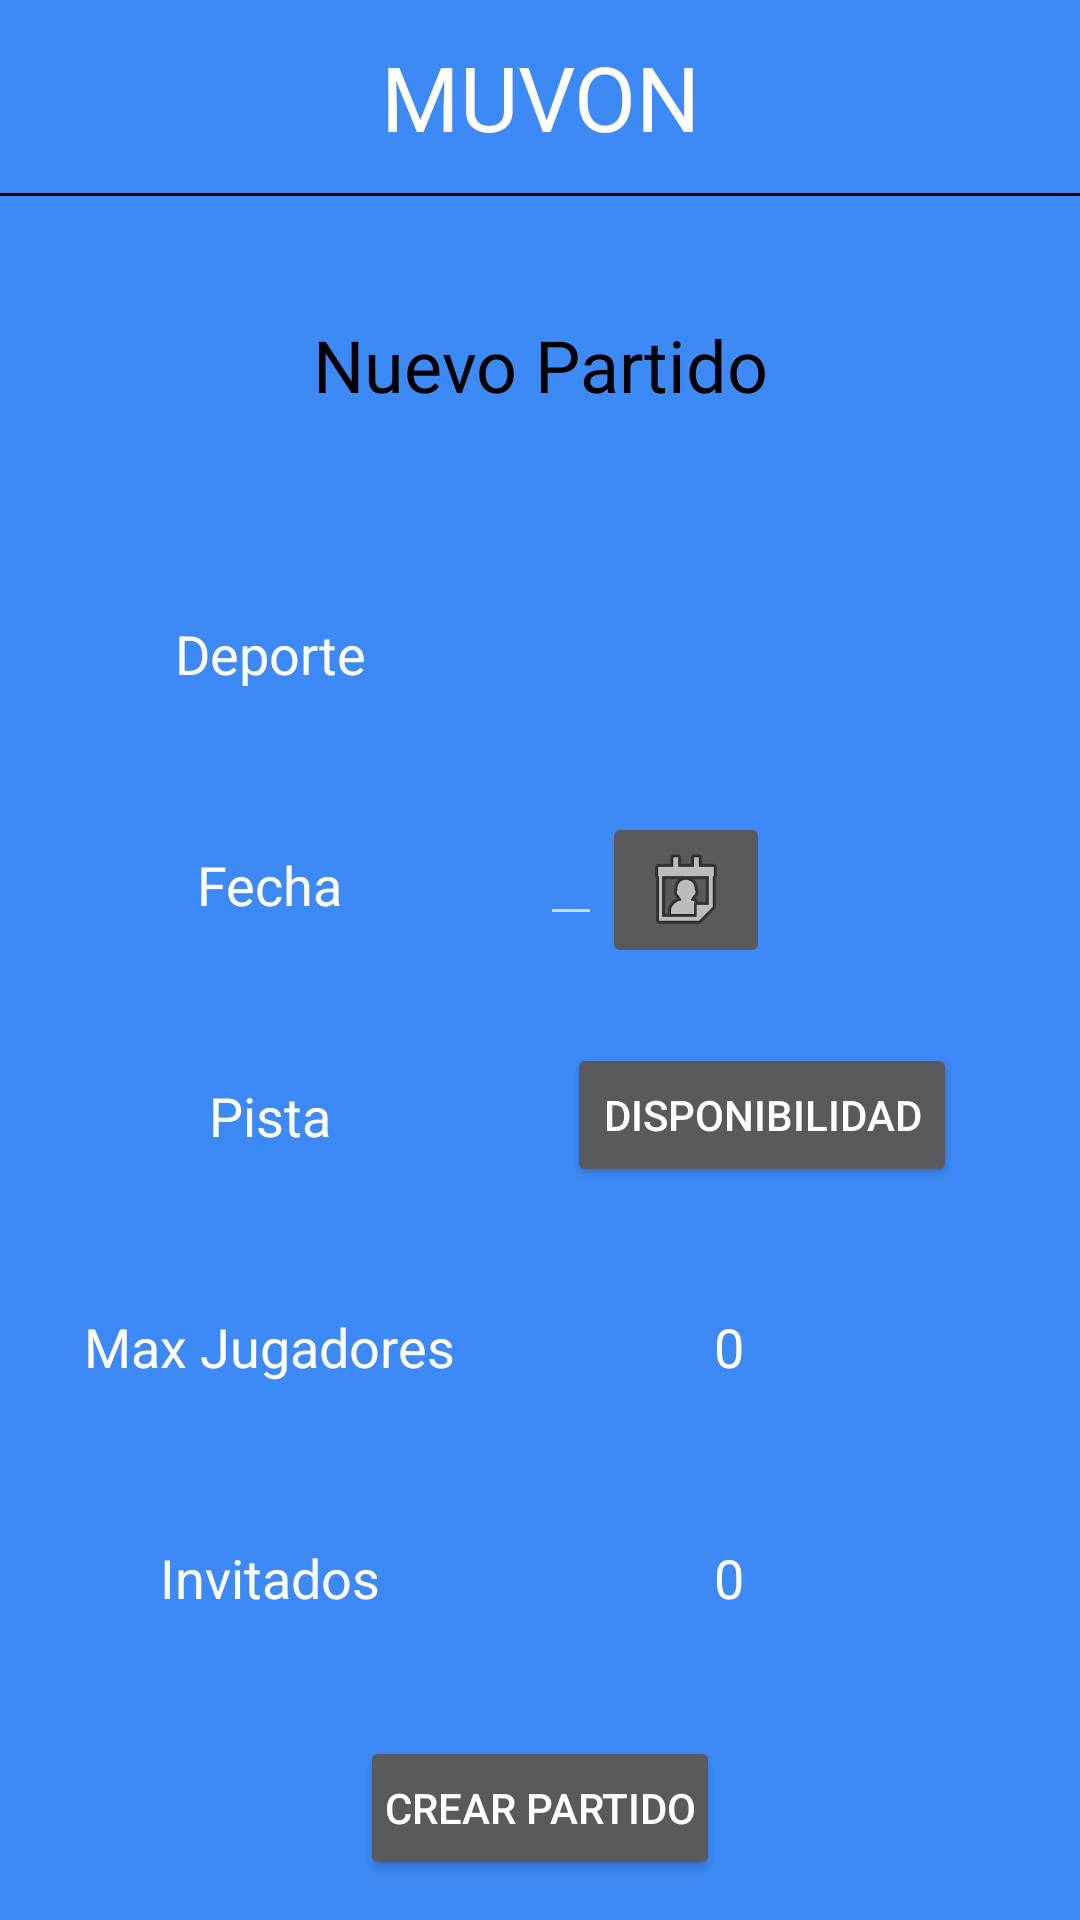

Where icons sit on this 1080px×1920px app screen, as detection(x1, y1, x2, y2):
calendar: detection(614, 830, 758, 950)
